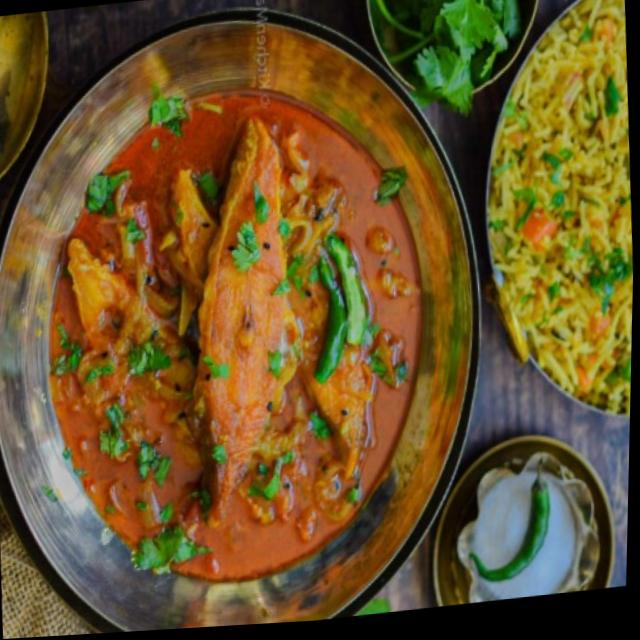CURD: (458, 455, 596, 603)
FISH CURRY: (51, 96, 419, 581)
RICE: (487, 0, 633, 417)
